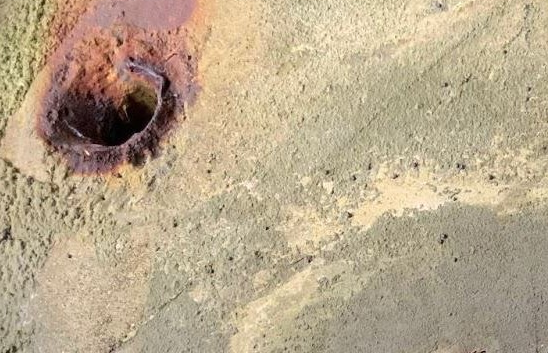Corrosion: (33, 1, 214, 179)
